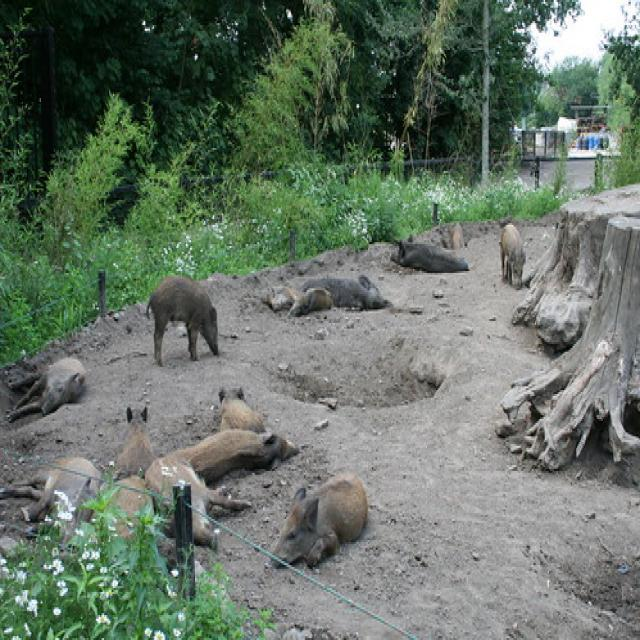boar: (260, 446, 379, 590), (166, 414, 294, 490), (147, 452, 240, 552), (134, 276, 225, 370), (4, 450, 102, 535), (6, 348, 91, 420), (103, 463, 156, 572), (303, 264, 392, 317), (379, 236, 470, 282), (116, 392, 158, 486), (214, 382, 276, 439), (495, 219, 531, 287), (281, 283, 332, 326), (426, 216, 470, 245)
